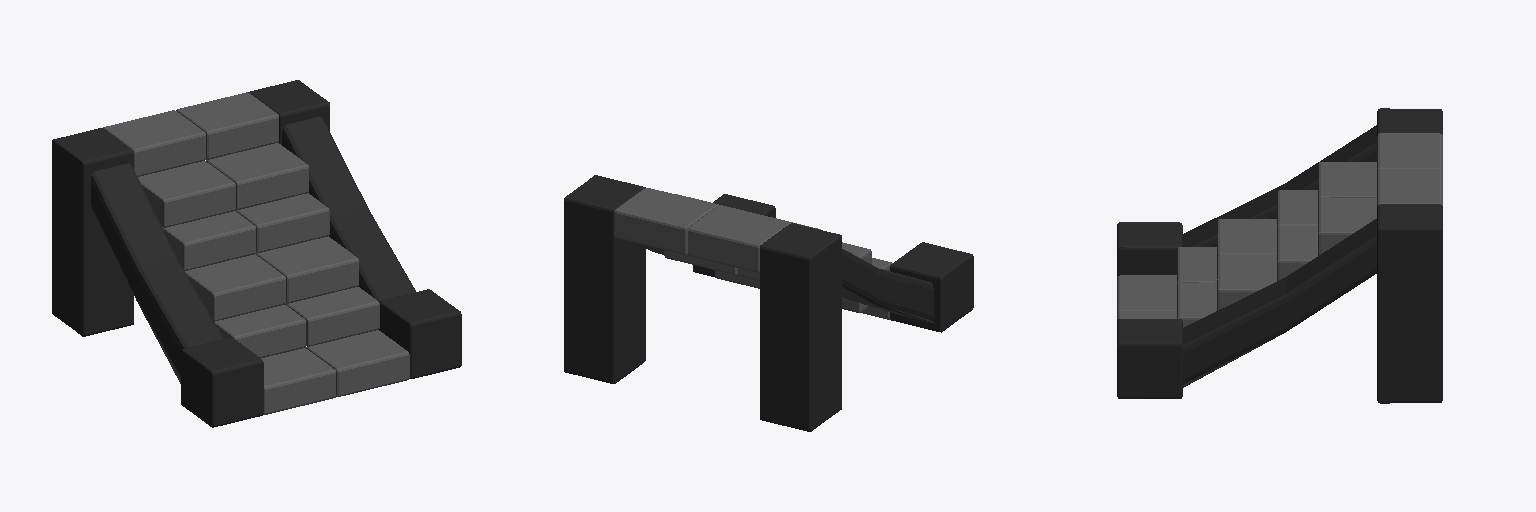
Rendered from step_stone.obj.
3 views of the same model, side by side, from view 1: azimuth 30°, elevation 25°; view 2: azimuth 150°, elevation 25°; view 3: azimuth 270°, elevation 25° (orthographic).
Visible parts, largest first — view 1: step_stone; view 2: step_stone; view 3: step_stone.
Part boxes in pixels (bbox=[...]): step_stone: bbox=[52, 80, 461, 427]; step_stone: bbox=[564, 175, 973, 431]; step_stone: bbox=[1117, 108, 1442, 403].
Size of the model in its own units: 3.39 by 2.27 by 3.82.